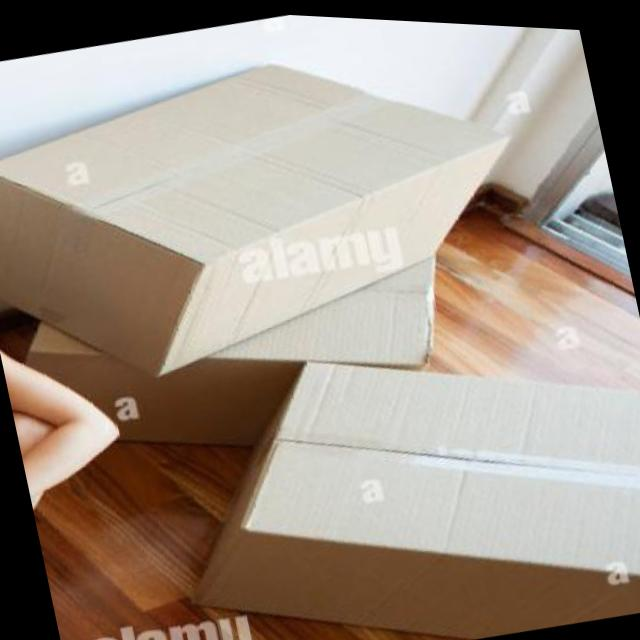box: (0, 1, 553, 429), (142, 279, 640, 640), (0, 210, 520, 507)
